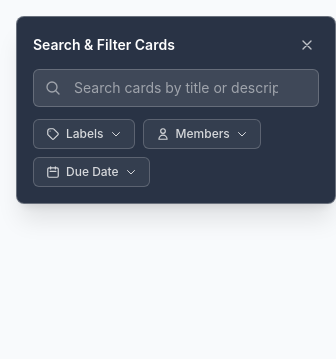
Scenario: CardSearchFilter › due date filter › opens due date dropdown when due date button is clicked
Click the button "Due Date" at (91, 172), box [33,157,150,187]
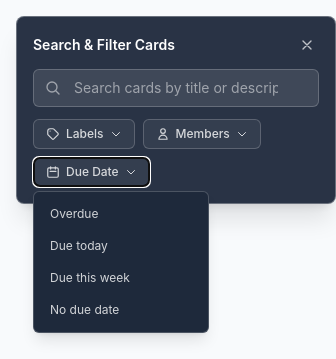
Result: the text "Overdue" is shown at [50,206,98,221]
Result: the text "Due today" is shown at [50,238,108,253]
Result: the text "Due this week" is shown at [50,270,130,285]
